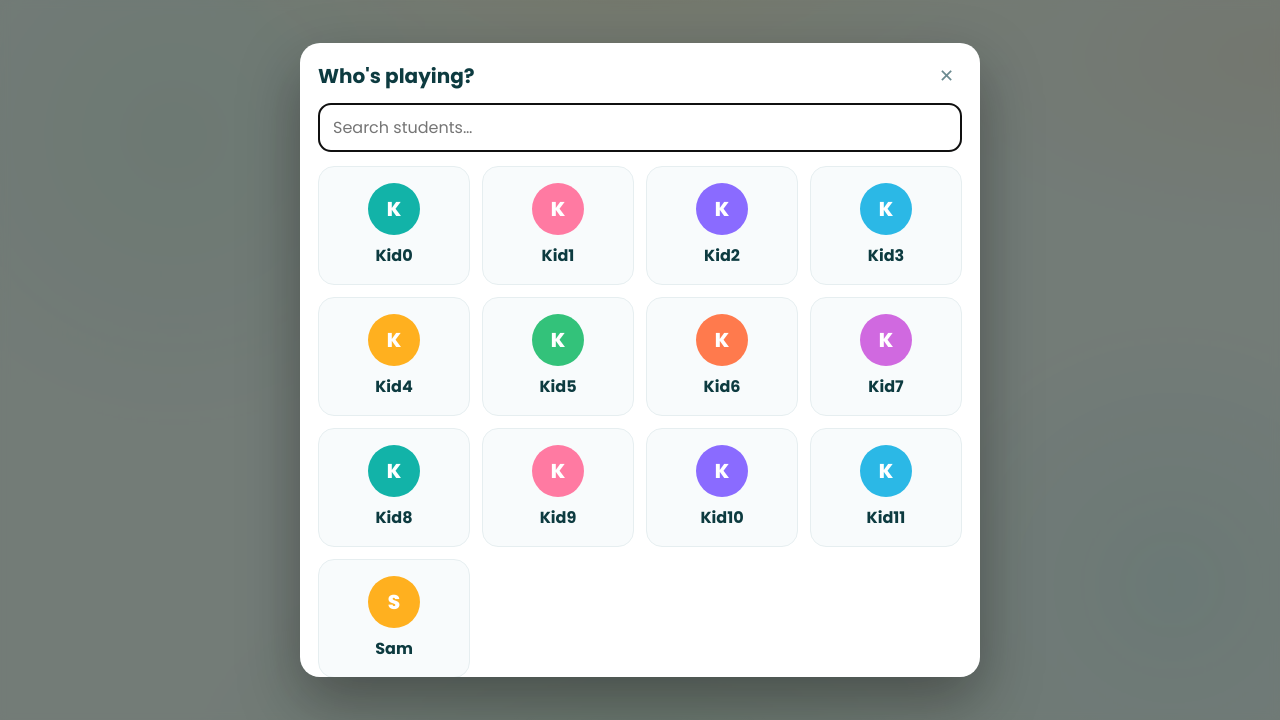
StudentPicker › filters by the search box
Type "sam" into the field with placeholder "Search students…" at (640, 128), box [318,103,962,152]
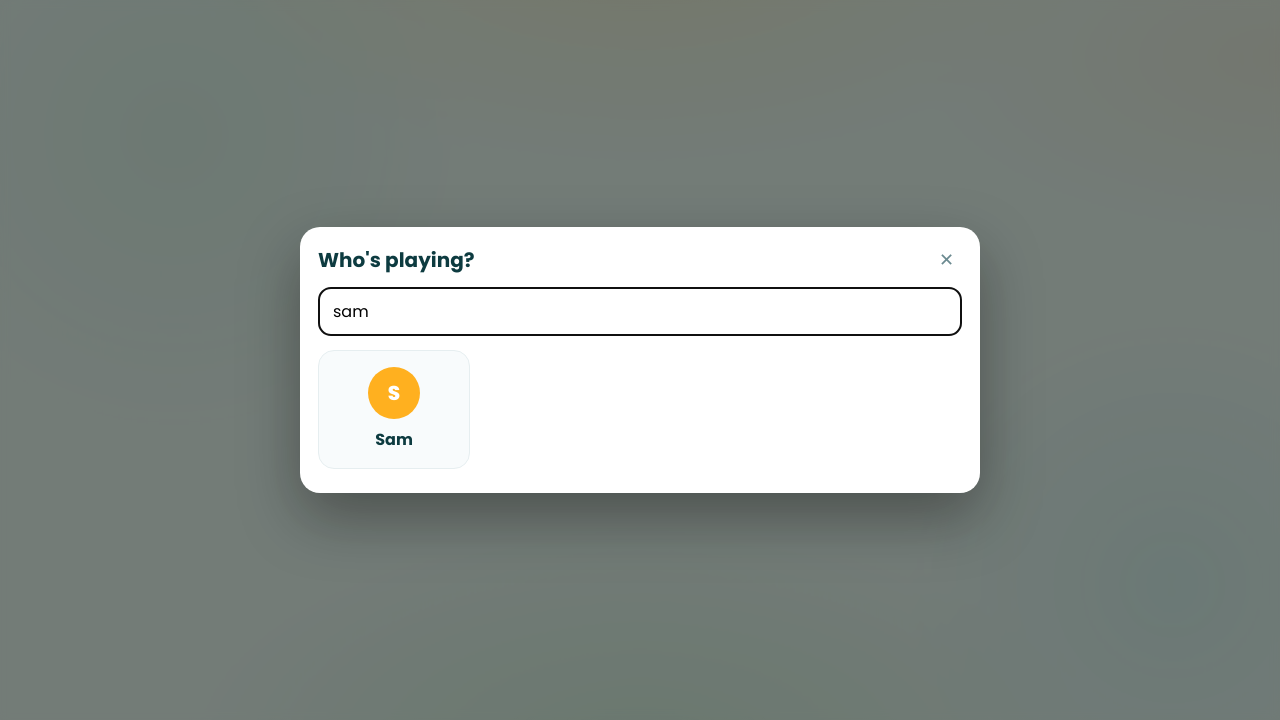
Expected: the button "S Sam" is shown, [318,350,470,469]
Result: the button "Kid0" is gone
